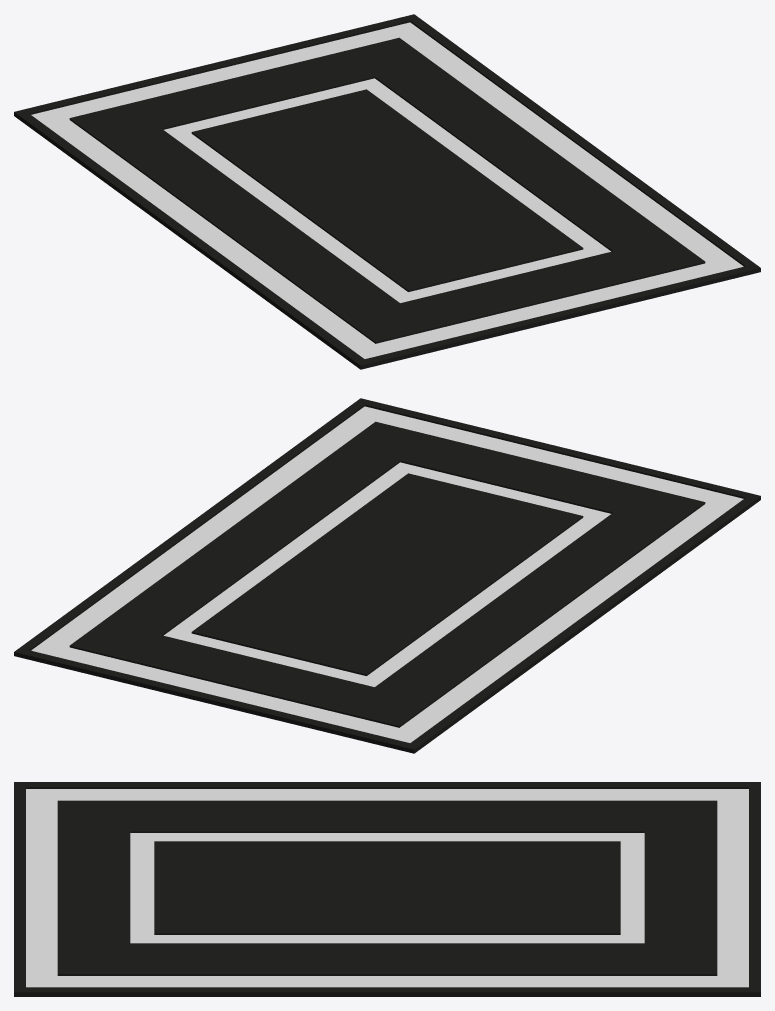
File: Itr_Carpet2_06.FBX
3 views of the same model, one above another, from view 1: azimuth 30°, elevation 25°; view 2: azimuth 150°, elevation 25°; view 3: azimuth 270°, elevation 25° (orthographic). The views are drawn at different scales.
Parts seen in each view (by area): view 1: Itr_Carpet2_06; view 2: Itr_Carpet2_06; view 3: Itr_Carpet2_06.
Boxes of the visible parts, bbox=[...] form: Itr_Carpet2_06: bbox=[14, 14, 760, 369]; Itr_Carpet2_06: bbox=[14, 398, 760, 753]; Itr_Carpet2_06: bbox=[14, 782, 760, 996].
Size of the model in its own units: 105 by 1.05 by 158.
